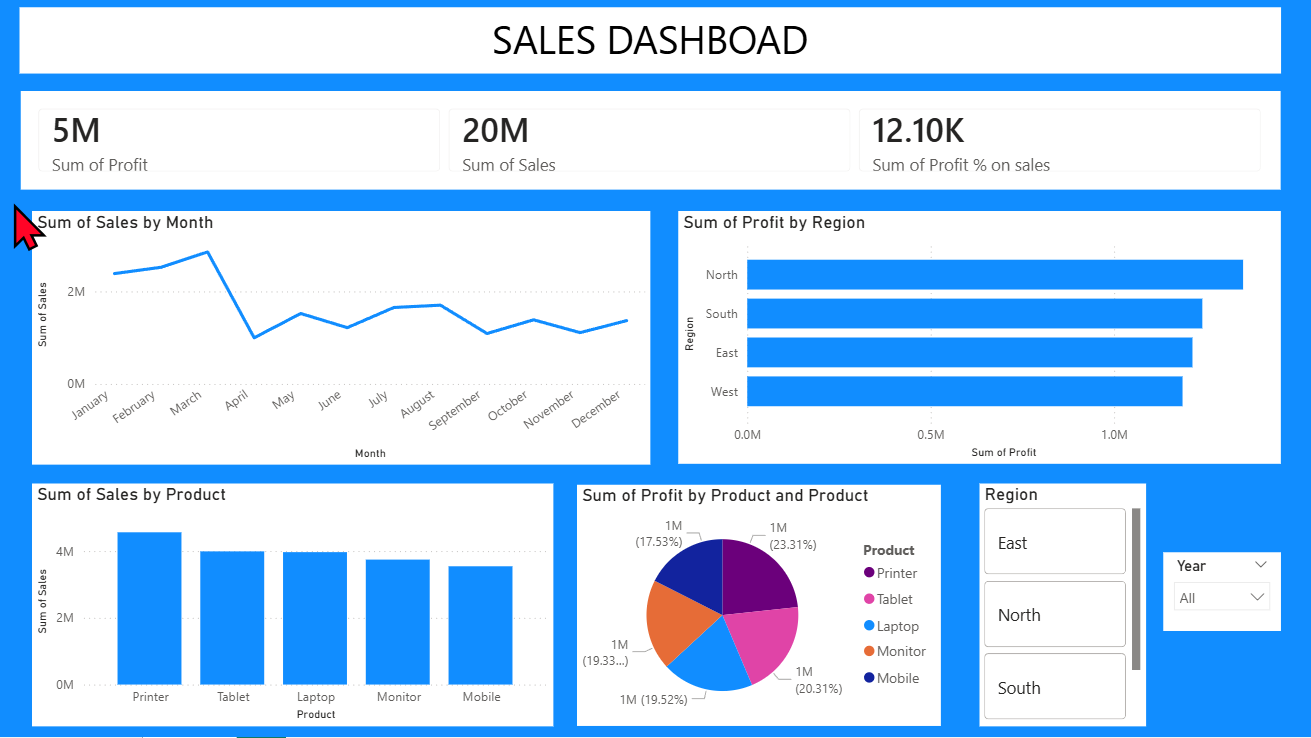

What the dashboard file says about the page in this screenshot:
{"tool":"powerbi","page":{"name":"Page 1","canvas":[1280,720],"ordinal":0},"visuals":[{"type":"cardVisual","fields":{"Data":["Sum(salesdb sales_data.Profit)","Sum(salesdb sales_data.Sales)","Sum(salesdb sales_data.Profit % on sales)"]},"box":[32.6,96.5,1216.1,95.3],"z":0},{"type":"lineChart","fields":{"Category":["salesdb sales_data.Order_Date.Variation.Date Hierarchy.Month"],"Y":["Sum(salesdb sales_data.Sales)"]},"box":[43.4,212.3,597.2,244.9],"z":1000},{"type":"barChart","fields":{"Category":["salesdb sales_data.Region"],"Y":["Sum(salesdb sales_data.Profit)"]},"box":[667.2,212.3,581.5,243.7],"z":2000},{"type":"columnChart","fields":{"Category":["salesdb sales_data.Product"],"Y":["Sum(salesdb sales_data.Sales)"]},"box":[43.4,475.3,503.1,234],"z":3000},{"type":"slicer","fields":{"Values":["salesdb sales_data.Order_Date.Variation.Date Hierarchy.Year"]},"box":[1135.3,541.7,113.4,76],"z":4000},{"type":"advancedSlicerVisual","fields":{"Values":["salesdb sales_data.Region"]},"box":[957.9,475.3,160.5,234],"z":5000},{"type":"textbox","box":[31.4,15.7,1217.3,63.9],"z":6000},{"type":"pieChart","fields":{"Category":["salesdb sales_data.Product"],"Series":["salesdb sales_data.Product"],"Y":["Sum(salesdb sales_data.Profit)"]},"box":[569.4,476.5,351.1,232.8],"z":7000}]}

Visuals, with their boxes in screenshot pixels (x1, y1, x2, y2), scaled from the page's 1280x720 canvas onto the 1311x738 screenshot:
cardVisual - Sum(salesdb sales_data.Profit) x Sum(salesdb sales_data.Sales): 33:99:1279:197
lineChart - salesdb sales_data.Order_Date.Variation.Date Hierarchy.Month x Sum(salesdb sales_data.Sales): 44:218:656:469
barChart - salesdb sales_data.Region x Sum(salesdb sales_data.Profit): 683:218:1279:467
columnChart - salesdb sales_data.Product x Sum(salesdb sales_data.Sales): 44:487:560:727
slicer - salesdb sales_data.Order_Date.Variation.Date Hierarchy.Year: 1163:555:1279:633
advancedSlicerVisual - salesdb sales_data.Region: 981:487:1145:727
textbox: 32:16:1279:82
pieChart - salesdb sales_data.Product x salesdb sales_data.Product: 583:488:943:727
